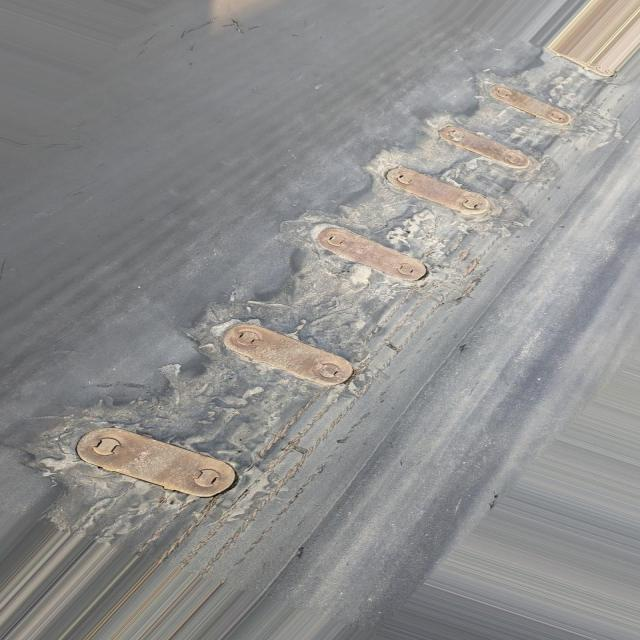patch work: (17, 46, 605, 575)
